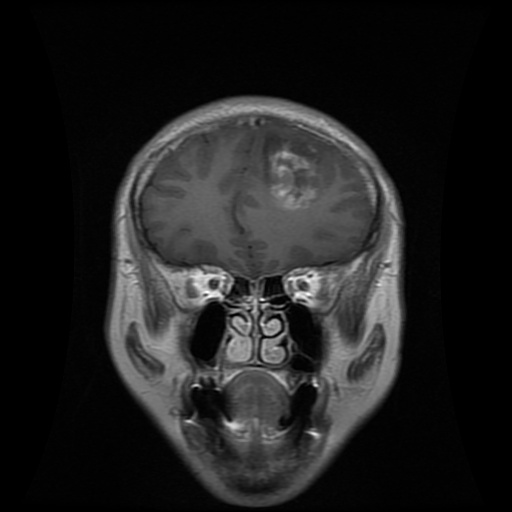glioma: (261, 128, 326, 210)
